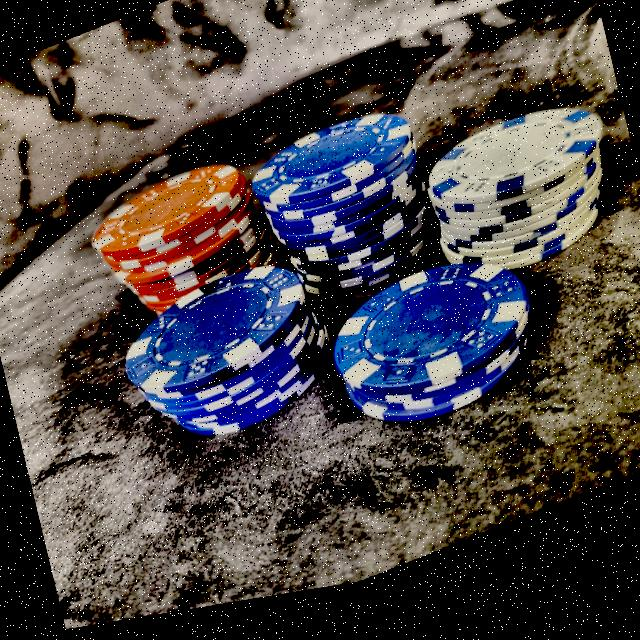Chip: (309, 221, 566, 485), (97, 225, 350, 490), (235, 79, 458, 357), (398, 75, 630, 334), (77, 130, 287, 362)
